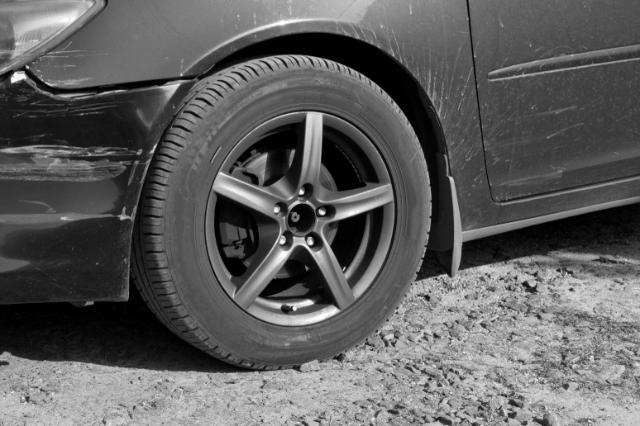Bumper: (0, 75, 154, 314)
